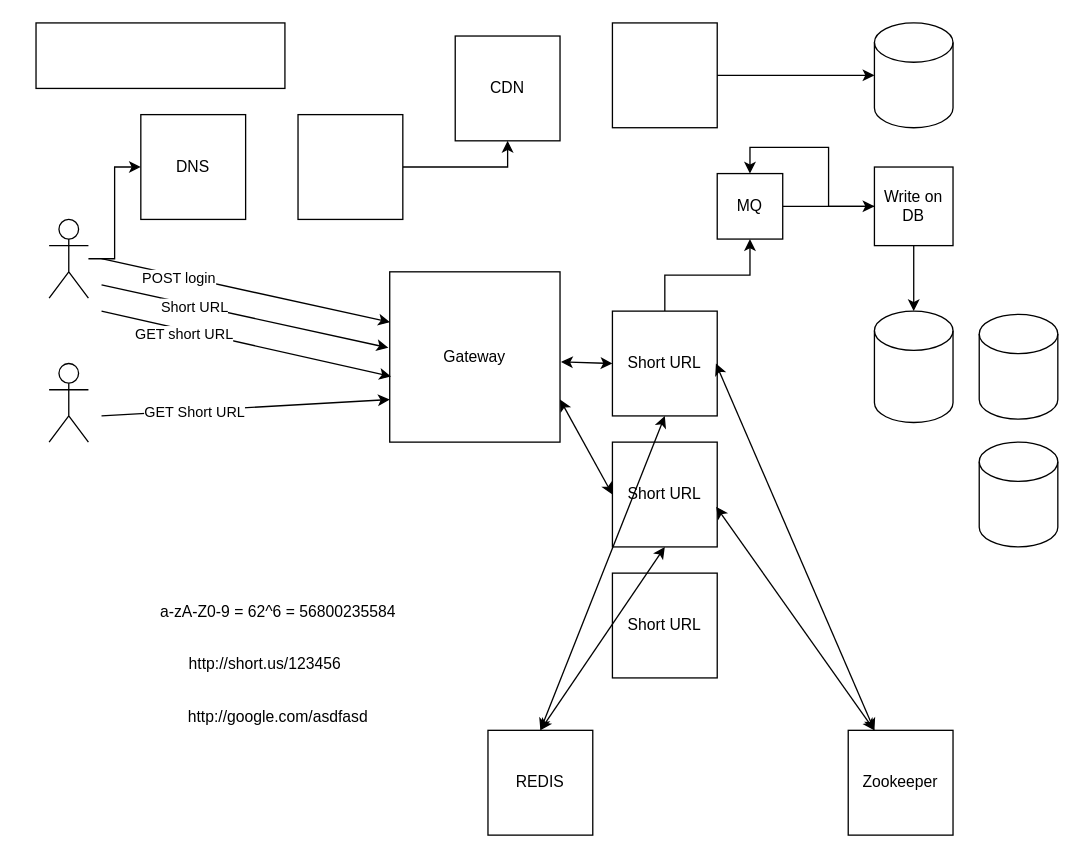
Some shapes in this 1081 by 858 pixel diagram are drawn without their labels. The centre of each missing label's shape, as x and y in pixels:
"1 - Usuário precisa de conta 2 - Encurtar URL 3 - Redirect para URL original" goes at pixel 160 55.
"Actor" goes at pixel 68 258.
"Anônimo" goes at pixel 68 402.
"Auth Server" goes at pixel 664 75.
"NGINX" goes at pixel 350 166.
